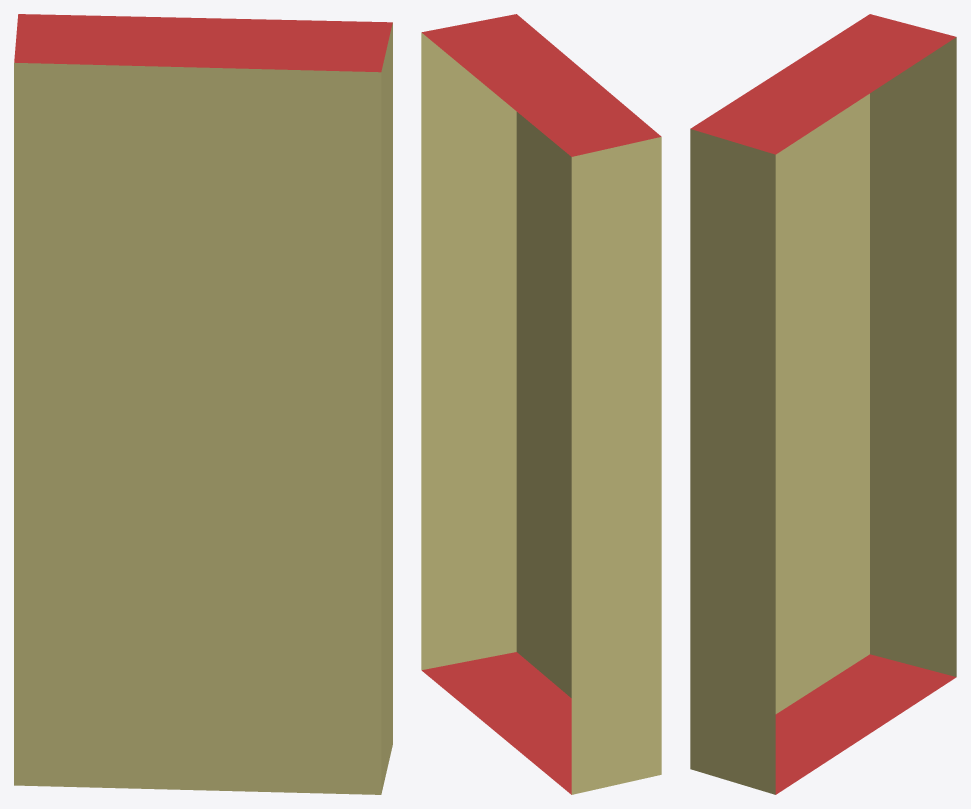
The picture shows the model from 3 angles, left to right: view 1: azimuth 30°, elevation 25°; view 2: azimuth 150°, elevation 25°; view 3: azimuth 270°, elevation 25°; orthographic projection. The views are drawn at different scales.
Visible parts, largest first — view 1: group_4, group_3; view 2: group_4, group_3, group_5; view 3: group_4, group_3, group_5.
Part boxes in pixels (x1,y1,x2,y2): group_4: [14, 22, 392, 794]; group_3: [14, 14, 392, 72]; group_4: [421, 32, 661, 794]; group_3: [422, 14, 661, 156]; group_5: [422, 652, 571, 794]; group_4: [690, 37, 956, 794]; group_3: [690, 14, 955, 154]; group_5: [775, 654, 956, 794].
Bounding box in the file's own units: 7.86 × 6.29 × 16.68.
